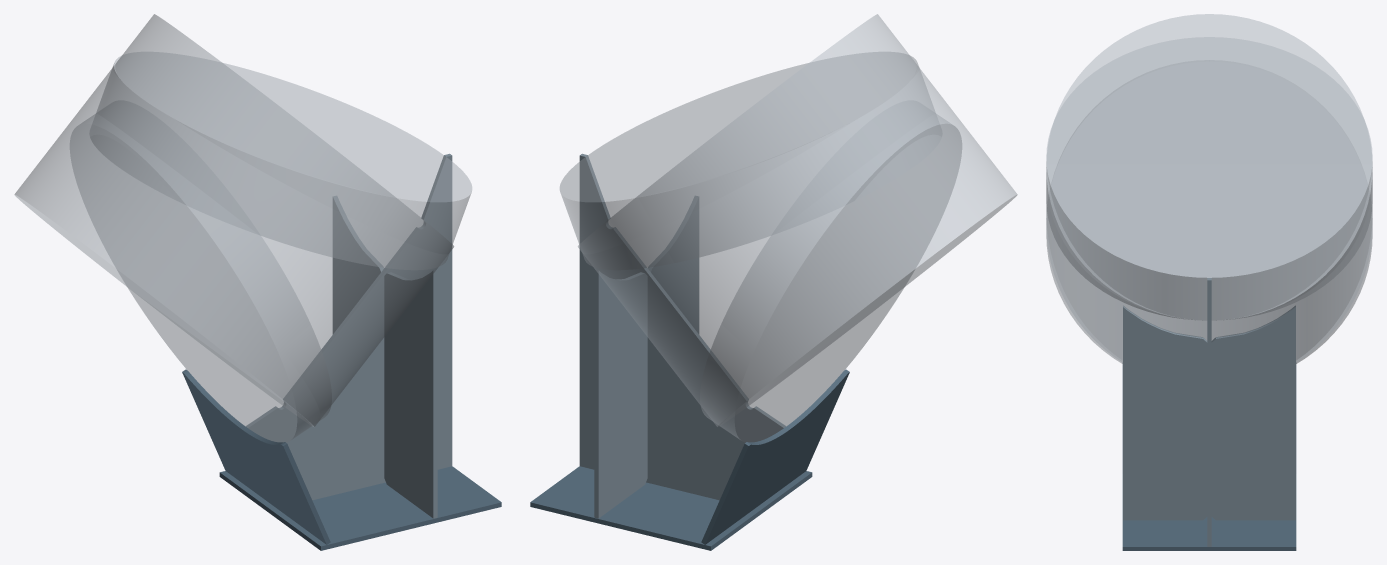
File: TS-631.000-19-opora-dn1220-R1220.glb
The picture shows the model from 3 angles, left to right: view 1: azimuth 30°, elevation 25°; view 2: azimuth 150°, elevation 25°; view 3: azimuth 270°, elevation 25°; orthographic projection. The views are drawn at different scales.
Parts seen in each view (by area): view 1: truba_1, truba_0, truba_2, kosynka_1, rebro_3, osnovanie_0, sedlo_4, rebro_2; view 2: truba_1, truba_0, truba_2, kosynka_1, rebro_2, osnovanie_0, sedlo_4, rebro_3; view 3: truba_1, truba_0, rebro_2, rebro_3, truba_2, osnovanie_0, kosynka_1.
Boxes of the visible parts, x1,y1,x2,y2 form: truba_1: (14,14,453,426); truba_0: (90,52,472,270); truba_2: (70,113,331,442); kosynka_1: (246,153,452,500); rebro_3: (384,269,437,518); osnovanie_0: (219,466,501,550); sedlo_4: (182,369,330,544); rebro_2: (332,196,383,333); truba_1: (578,14,1017,426); truba_0: (559,52,941,270); truba_2: (700,113,961,442); kosynka_1: (579,153,785,500); rebro_2: (594,269,647,518); osnovanie_0: (530,466,812,550); sedlo_4: (701,369,849,544); rebro_3: (648,196,699,333); truba_1: (1046,14,1372,363); truba_0: (1046,37,1372,320); rebro_2: (1211,305,1295,520); rebro_3: (1123,305,1207,520); truba_2: (1046,212,1372,362); osnovanie_0: (1122,474,1296,550); kosynka_1: (1207,278,1211,546).
Bounding box in the file's own units: 1494 × 1760 × 1220.
